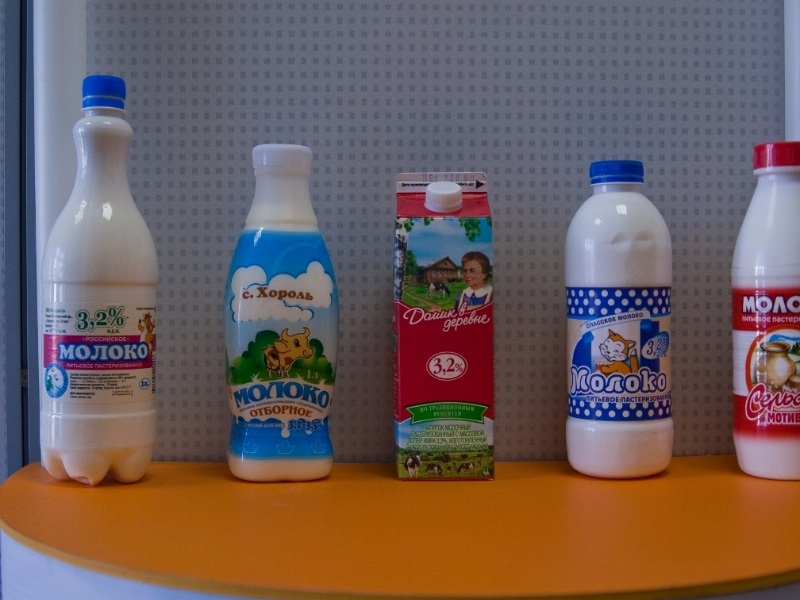milk: (41, 66, 175, 485), (554, 157, 686, 493), (377, 158, 508, 493), (230, 140, 347, 493), (717, 156, 800, 489)
